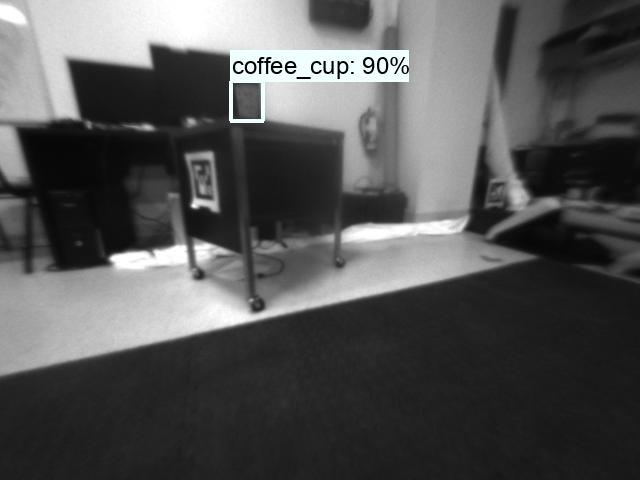coffee_cup: (230, 82, 263, 120)
